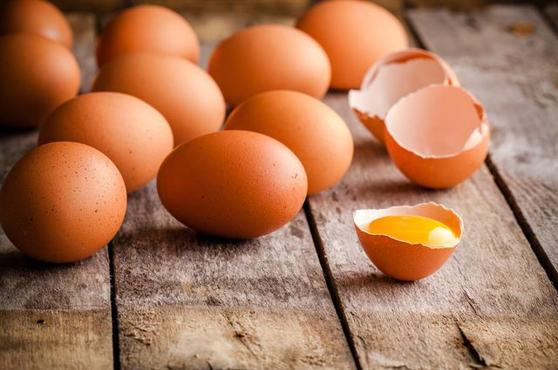egg: (152, 131, 308, 240)
